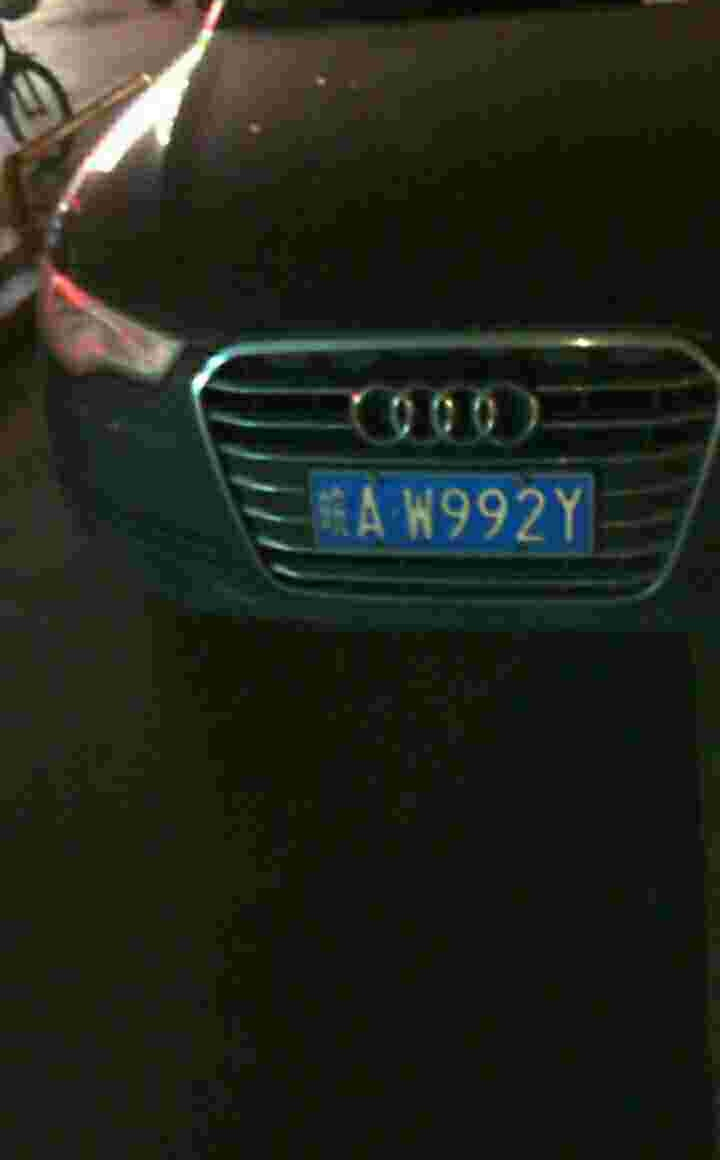car: (312, 464, 601, 561)
